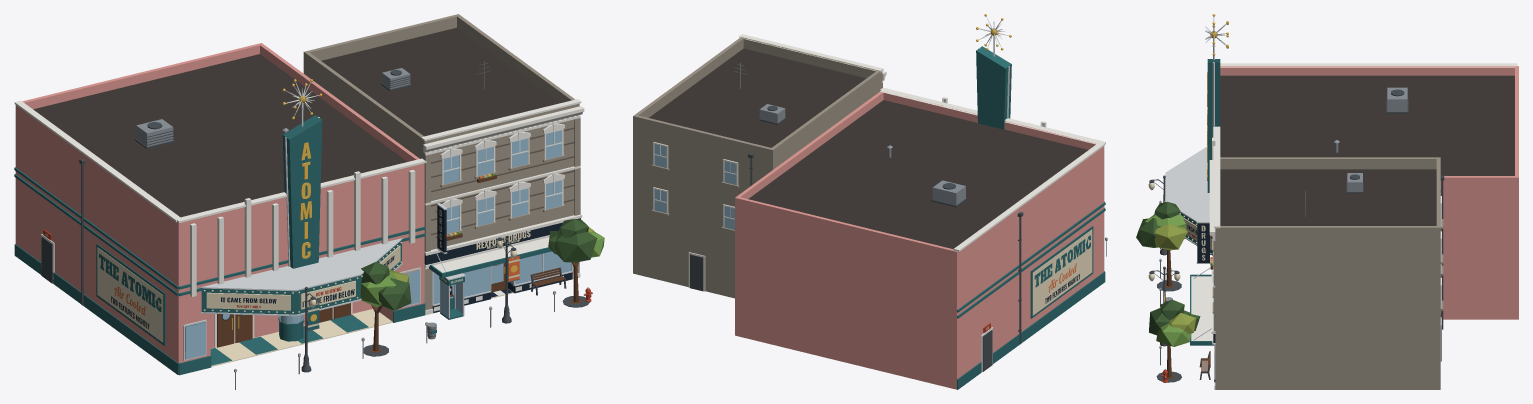
File: Lobby_BlockAtomic.fbx
3 renders of one model, left to right at view 1: azimuth 30°, elevation 25°; view 2: azimuth 150°, elevation 25°; view 3: azimuth 270°, elevation 25°, orthographic. The views are drawn at different scales.
Parts seen in each view (by area): view 1: Decor, DecorGlassSkyblue_, DecorGlassSkyblue___, DecorGlassSkyblue, DecorNeonHazard; view 2: Decor, DecorGlassSkyblue_; view 3: Decor.
Boxes of the visible parts, left/top/right/bottom form: Decor: left=14, top=14, right=604, bottom=389; DecorGlassSkyblue_: left=222, top=130, right=562, bottom=319; DecorGlassSkyblue___: left=433, top=251, right=571, bottom=304; DecorGlassSkyblue: left=185, top=270, right=464, bottom=359; DecorNeonHazard: left=282, top=79, right=321, bottom=258; Decor: left=633, top=16, right=1107, bottom=389; DecorGlassSkyblue_: left=654, top=144, right=736, bottom=229; Decor: left=1136, top=17, right=1518, bottom=389.
Size of the model in its own units: 89.1 by 55.38 by 78.21.
